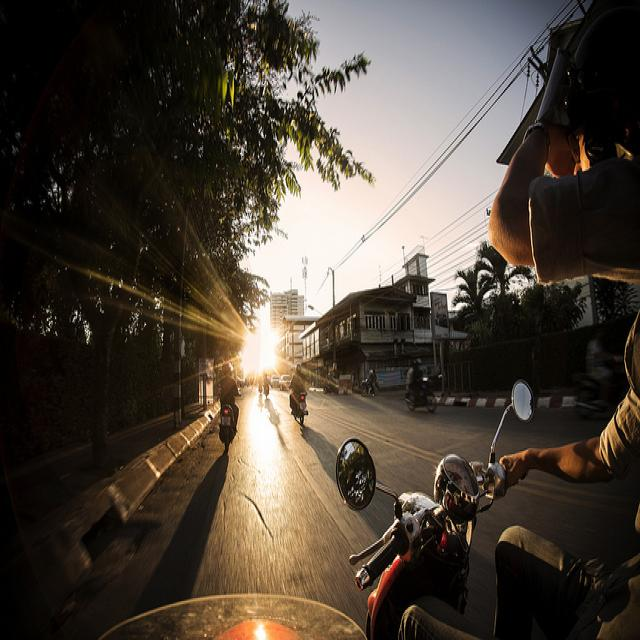motor: (335, 381, 601, 638), (106, 595, 359, 632), (407, 374, 437, 410), (219, 404, 236, 453), (292, 389, 308, 425), (362, 380, 379, 396), (323, 379, 339, 394), (263, 383, 269, 399), (258, 383, 262, 394)
